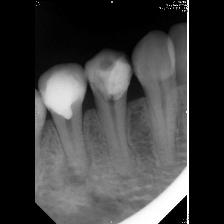apical_lesion: (39, 64, 110, 210)
